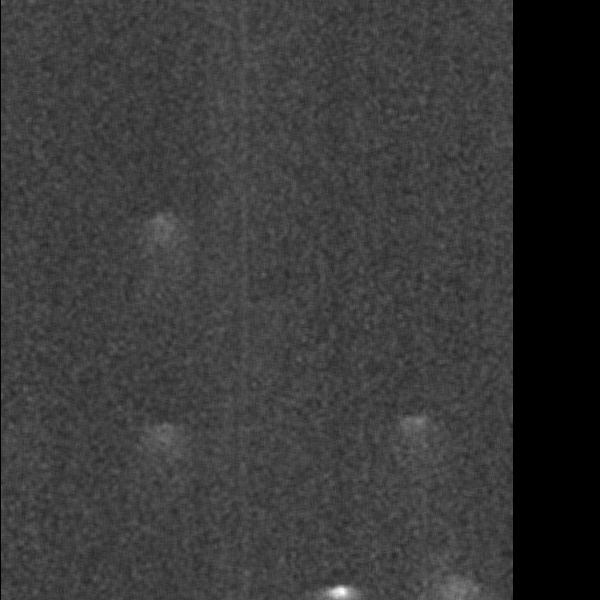spark: (60, 392, 163, 452), (185, 381, 222, 467), (37, 151, 99, 200), (463, 424, 514, 473), (44, 2, 99, 44), (43, 267, 96, 309), (43, 509, 99, 542), (442, 225, 500, 255), (48, 549, 93, 565)
